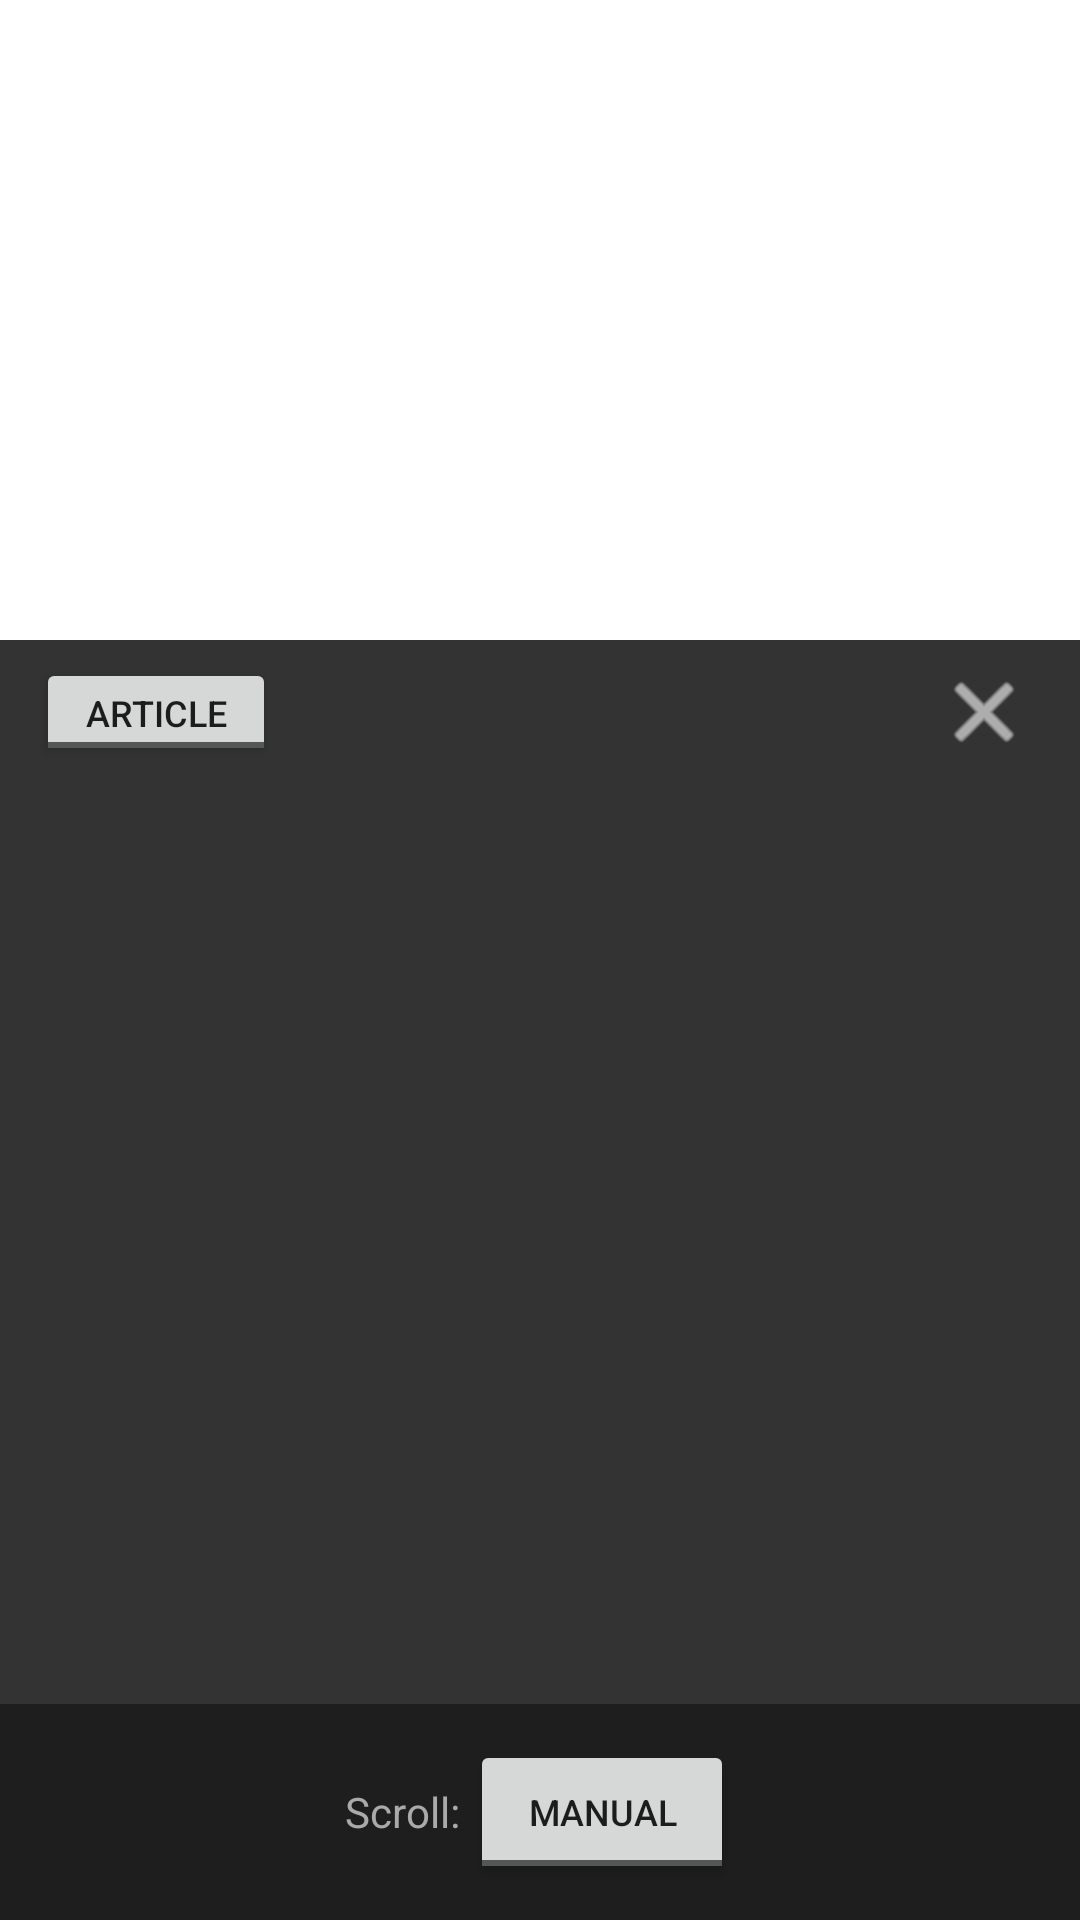

Locate icon controls on the screen. Image size 1080x1920, boxes as [x1=x1, y1=y1, x2=x2, y2=y2].
Close: [x1=954, y1=682, x2=1014, y2=742]
